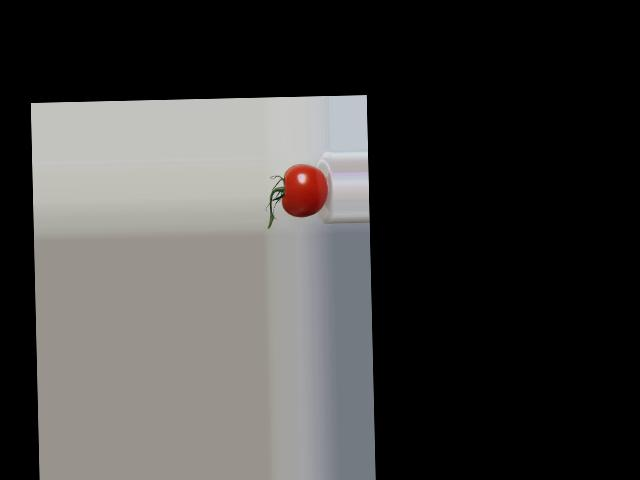tomato: (281, 163, 328, 218)
